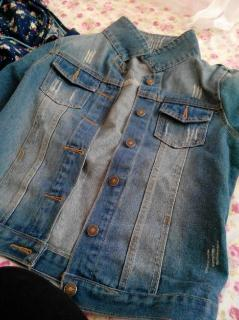long sleeve outwear: (0, 16, 239, 319)
